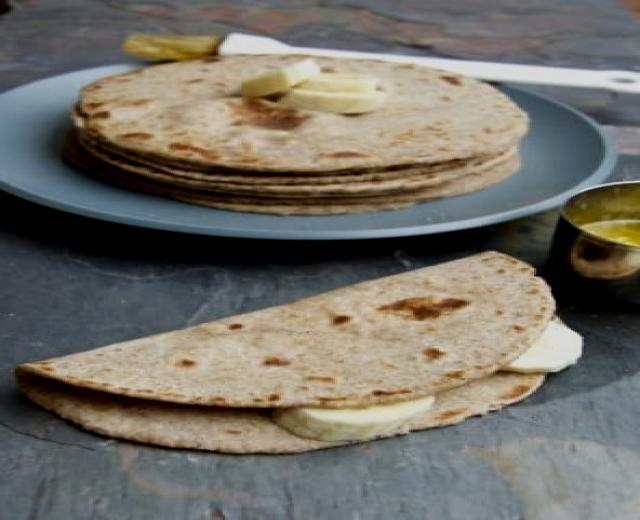chapati: (15, 252, 579, 452), (63, 50, 525, 215)
